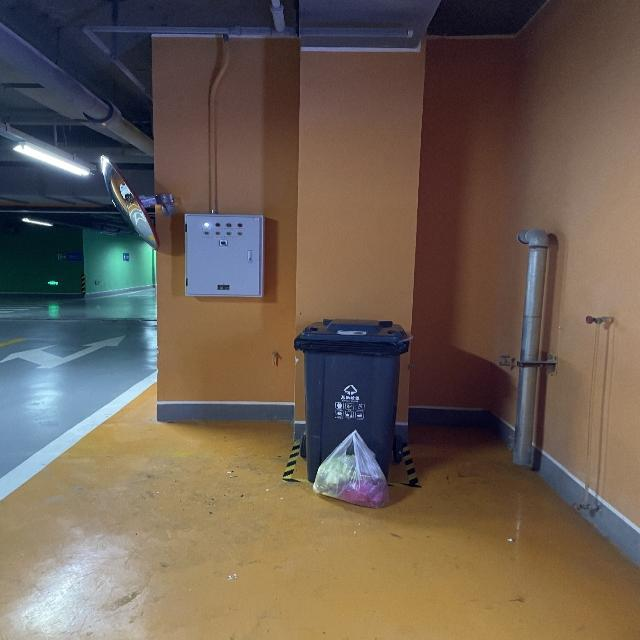garbage: (311, 428, 385, 508)
garbage_bin: (293, 317, 409, 481)
